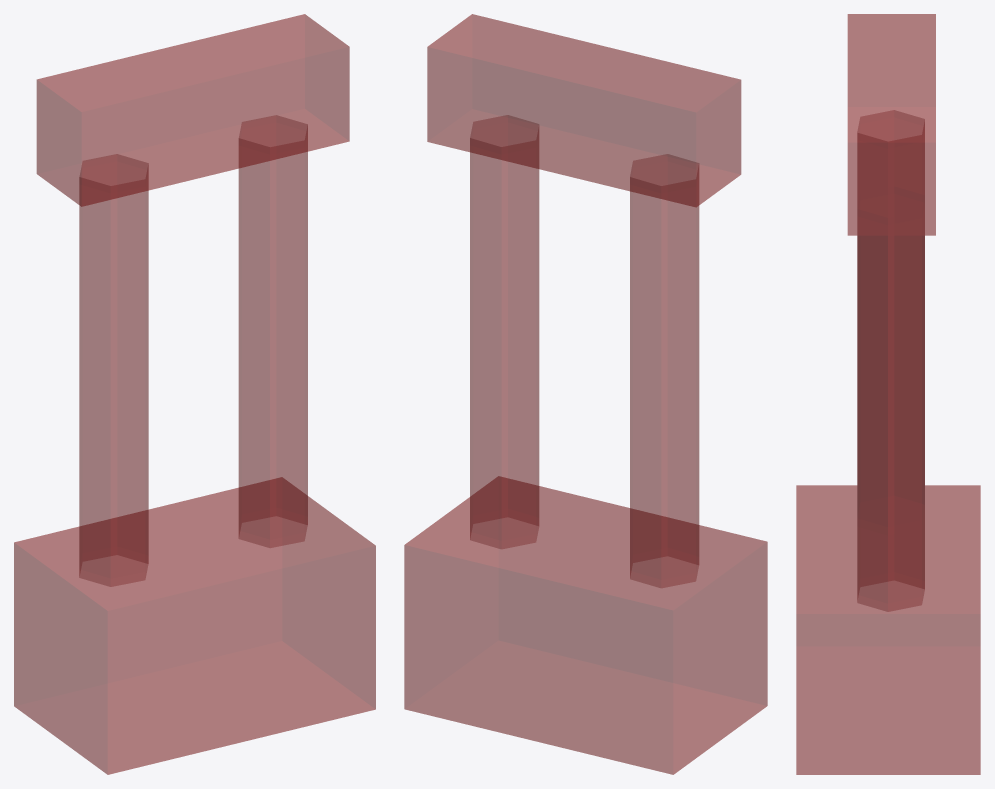
The model's file is SM_Bld_Ruins_01_Collision.fbx.
The picture shows the model from 3 angles, left to right: view 1: azimuth 30°, elevation 25°; view 2: azimuth 150°, elevation 25°; view 3: azimuth 270°, elevation 25°; orthographic projection. The views are drawn at different scales.
Visible parts, largest first — view 1: SM_Bld_Ruins_01_Collision; view 2: SM_Bld_Ruins_01_Collision; view 3: SM_Bld_Ruins_01_Collision.
Boxes of the visible parts, left/top/right/bottom form: SM_Bld_Ruins_01_Collision: left=14, top=14, right=375, bottom=774; SM_Bld_Ruins_01_Collision: left=404, top=14, right=767, bottom=774; SM_Bld_Ruins_01_Collision: left=796, top=14, right=980, bottom=774.
Size of the model in its own units: 326 by 749 by 198.
